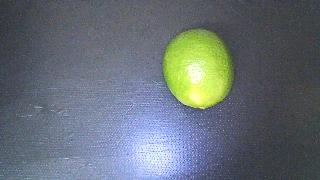EXPORTACION: (152, 20, 244, 118)
